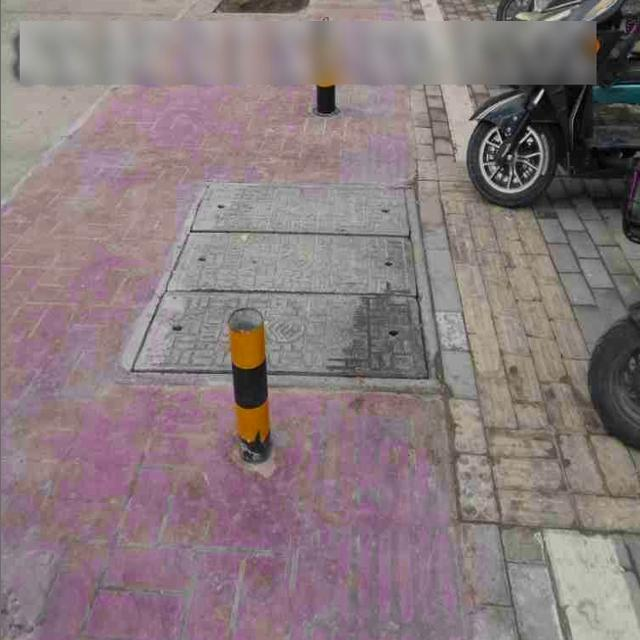good: (134, 167, 439, 373)
